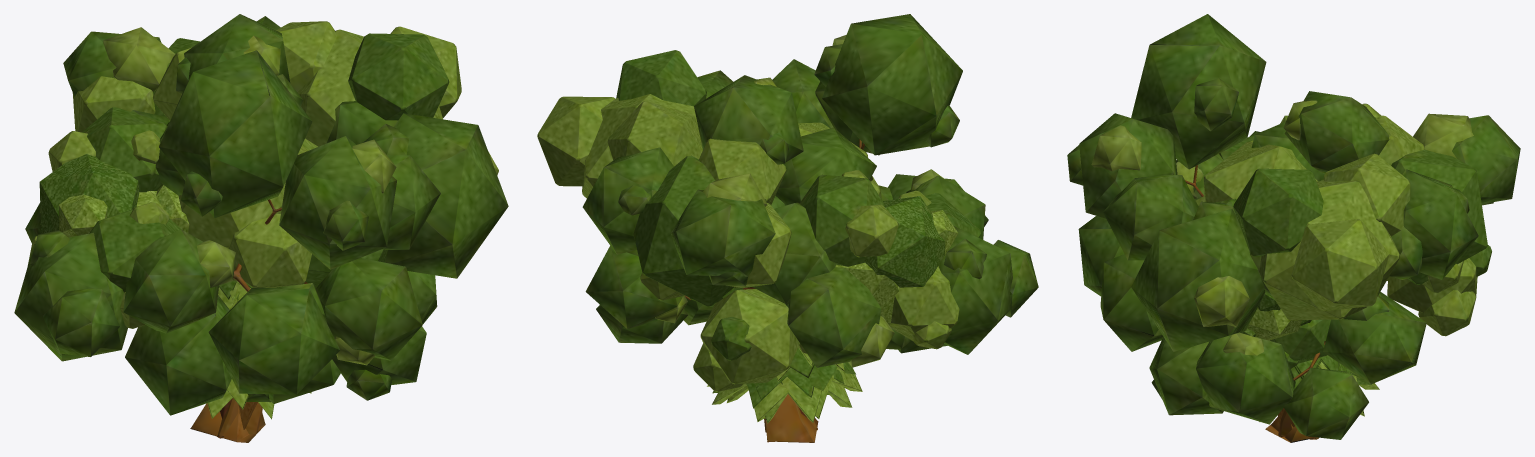
File: trees.glb
3 views of the same model, side by side, from view 1: azimuth 30°, elevation 25°; view 2: azimuth 150°, elevation 25°; view 3: azimuth 270°, elevation 25° (orthographic). The views are drawn at different scales.
Visible parts, largest first — view 1: lp_oak3, lp_oak2, lp_oak1, lp_pine1; view 2: lp_oak3, lp_oak2, lp_oak1, lp_pine1, lp_pine3; view 3: lp_oak3, lp_oak2, lp_oak1, lp_pine2.
Boxes of the visible parts, box(x1,y1,x2,y2) form: lp_oak3: box(14, 14, 508, 442); lp_oak2: box(27, 21, 461, 438); lp_oak1: box(39, 153, 307, 429); lp_pine1: box(207, 280, 311, 419); lp_oak3: box(582, 14, 1038, 442); lp_oak2: box(537, 50, 980, 432); lp_oak1: box(835, 196, 958, 325); lp_pine1: box(707, 347, 852, 422); lp_pine3: box(727, 362, 862, 423); lp_oak3: box(1067, 14, 1520, 442); lp_oak2: box(1195, 103, 1491, 439); lp_oak1: box(1240, 115, 1323, 429); lp_pine2: box(1291, 355, 1372, 384).
Size of the model in its own units: 20.04 by 16.96 by 18.41.
Materials: 8 (8 with a texture image).
